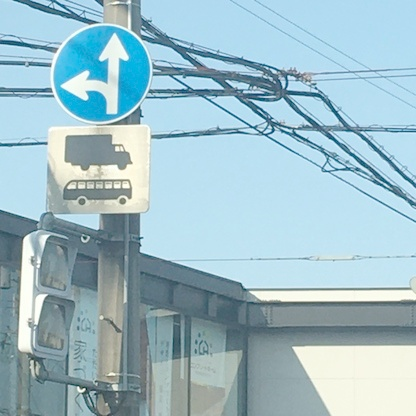Direction_sign: (38, 25, 171, 128)
